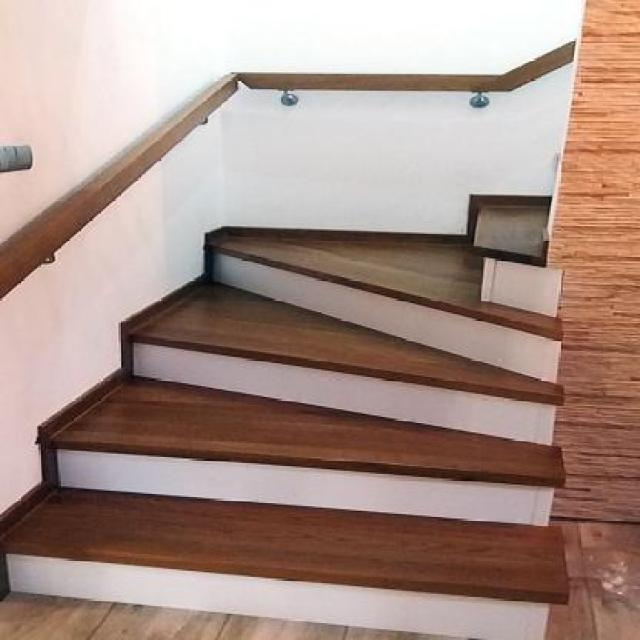stair: (0, 111, 631, 640)
